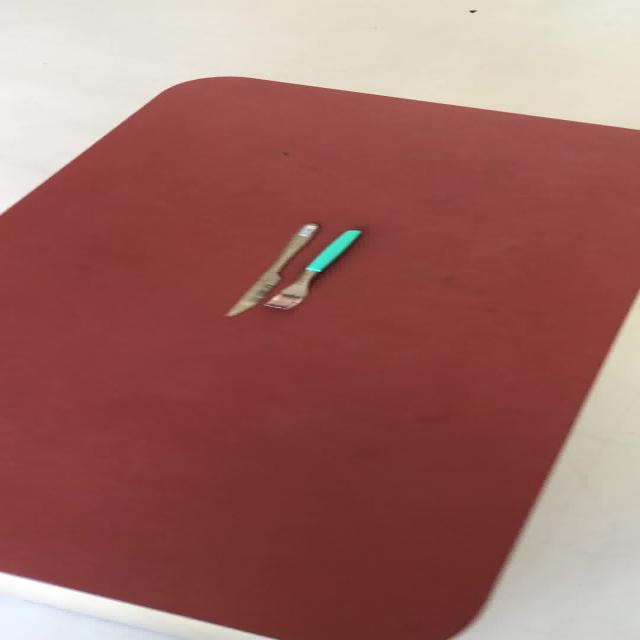fork: (223, 221, 320, 317), (263, 228, 362, 310)
knife fork: (222, 221, 320, 317), (263, 228, 362, 311)
